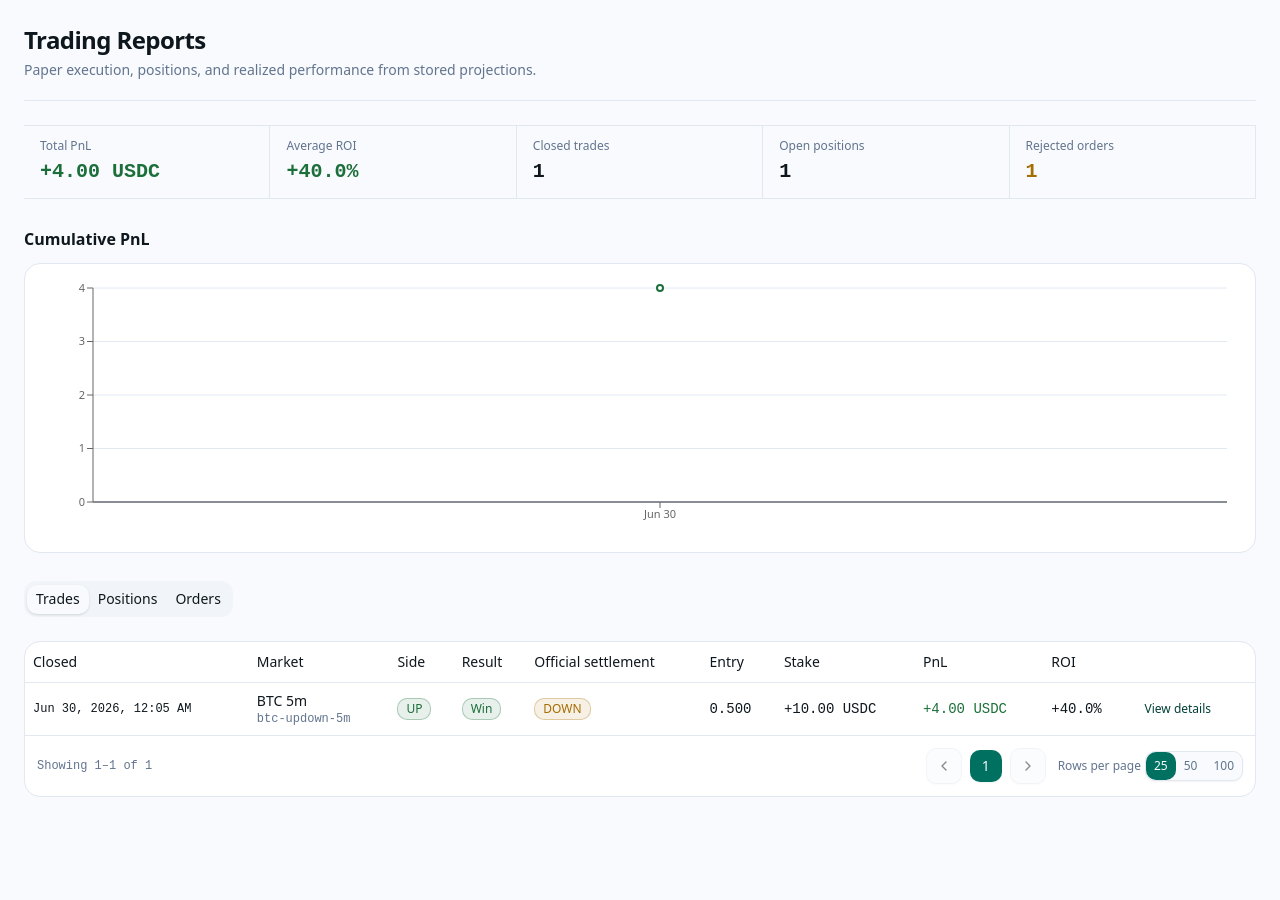
Test: ReportingPage › renders positions and orders tables on their tabs
Click the tab "Positions" at coordinates (128, 599), box [89,584,166,614]
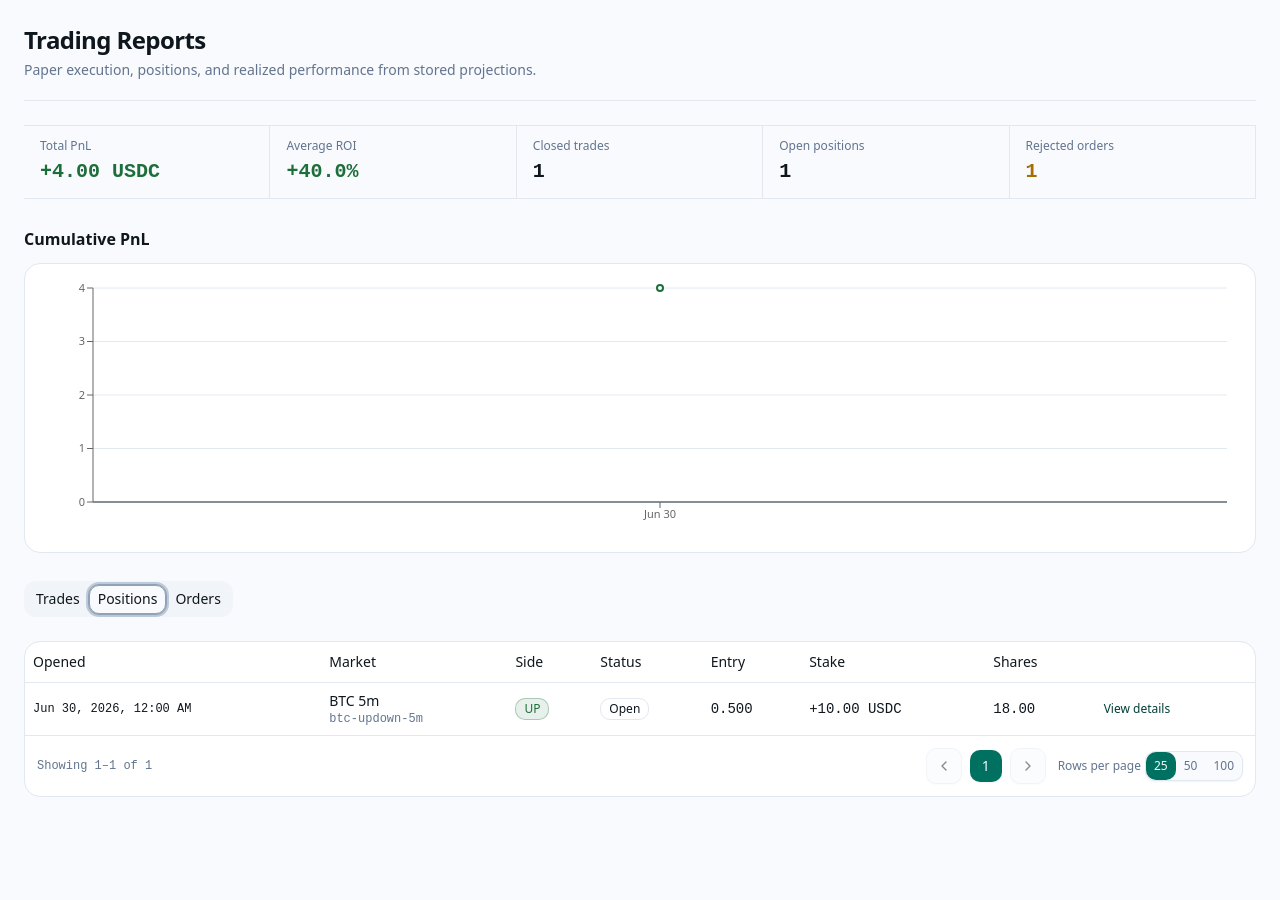
expect the text "Open" is shown: met, box [600,698,649,720]
Click the tab "Orders" at coordinates (198, 599), box [166,584,230,614]
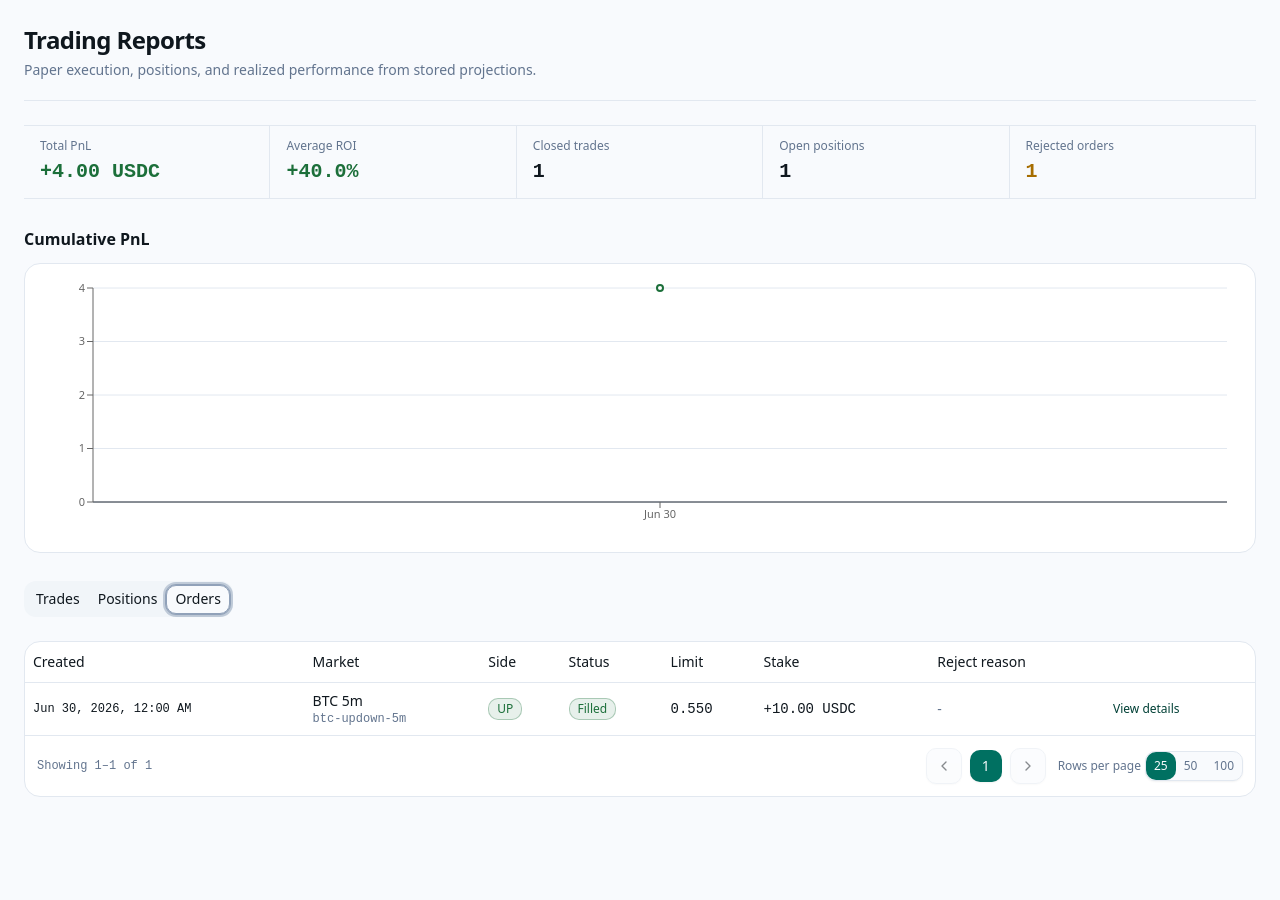
expect the text "Filled" is shown: met, box [568,698,616,720]
